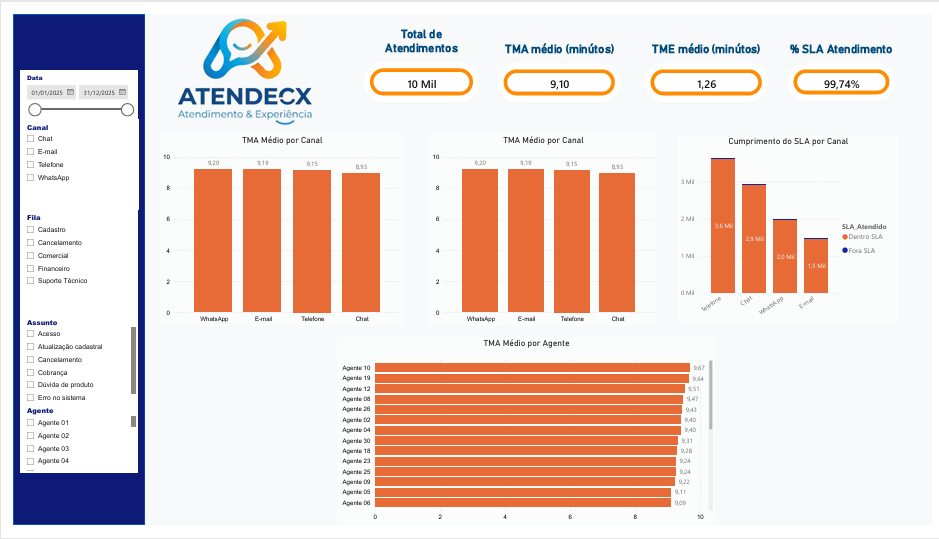

The page's visual inventory and layout, read from the dashboard file:
{"tool":"powerbi","page":{"name":"Peformace operacional","canvas":[1800,1000],"ordinal":2},"visuals":[{"type":"shape","box":[0,0,258,1000],"z":0},{"type":"cardVisual","title":"TME médio (minútos)","fields":{"Data":["ABC_Produtos.TME Médio"]},"box":[1232,54,252,122],"z":1000},{"type":"slicer","fields":{"Values":["Atendimento.Data"]},"box":[14,110,231,95],"z":2000},{"type":"slicer","fields":{"Values":["Atendimento.Canal"]},"box":[14,206,232,178],"z":3000},{"type":"slicer","fields":{"Values":["Atendimento.Agente"]},"box":[14,762,231,137],"z":4000},{"type":"slicer","fields":{"Values":["Atendimento.Assunto"]},"box":[14,588,231,174],"z":5000},{"type":"slicer","fields":{"Values":["Atendimento.Fila"]},"box":[14,384,231,204],"z":6000},{"type":"image","box":[308,0,292,220],"z":7000},{"type":"cardVisual","title":"Total de Atendimentos","fields":{"Data":["Atendimento.Total de atendimentos"]},"box":[682,26,236,150],"z":8000},{"type":"cardVisual","title":"TMA médio (minútos)","fields":{"Data":["ABC_Produtos.TMA Médio"]},"box":[944,54,252,122],"z":9000},{"type":"cardVisual","title":"% SLA Atendimento","fields":{"Data":["Atendimento.% SLA Atendido"]},"box":[1512,54,222,120],"z":10000},{"type":"clusteredColumnChart","fields":{"Y":["Atendimento.TMA Médio"],"Category":["Atendimento.Canal"]},"box":[288,236,478,376],"z":11000},{"type":"clusteredColumnChart","fields":{"Category":["Atendimento.Canal"],"Y":["Atendimento.TMA Médio"]},"box":[816,236,446,376],"z":12000},{"type":"columnChart","title":"Cumprimento do SLA por Canal","fields":{"Category":["Atendimento.Canal"],"Y":["Atendimento.Total de atendimentos"],"Series":["Atendimento.SLA_Atendido"]},"box":[1304,238,430,374],"z":13000},{"type":"clusteredBarChart","fields":{"Category":["Atendimento.Agente"],"Y":["Atendimento.TMA Médio"]},"box":[636,634,740,366],"z":14000}]}

Visuals, with their boxes on the page's 1800x1000 design canvas (x1, y1, x2, y2). These are canvas units, not pixel positions in the 939x539 screenshot, which may show the page scaled, cropped or inside an application window:
shape: (left=0, top=0, right=258, bottom=1000)
"TME médio (minútos)" cardVisual: (left=1232, top=54, right=1484, bottom=176)
slicer - Atendimento.Data: (left=14, top=110, right=245, bottom=205)
slicer - Atendimento.Canal: (left=14, top=206, right=246, bottom=384)
slicer - Atendimento.Agente: (left=14, top=762, right=245, bottom=899)
slicer - Atendimento.Assunto: (left=14, top=588, right=245, bottom=762)
slicer - Atendimento.Fila: (left=14, top=384, right=245, bottom=588)
image: (left=308, top=0, right=600, bottom=220)
"Total de Atendimentos" cardVisual: (left=682, top=26, right=918, bottom=176)
"TMA médio (minútos)" cardVisual: (left=944, top=54, right=1196, bottom=176)
"% SLA Atendimento" cardVisual: (left=1512, top=54, right=1734, bottom=174)
clusteredColumnChart - Atendimento.TMA Médio x Atendimento.Canal: (left=288, top=236, right=766, bottom=612)
clusteredColumnChart - Atendimento.Canal x Atendimento.TMA Médio: (left=816, top=236, right=1262, bottom=612)
"Cumprimento do SLA por Canal" columnChart: (left=1304, top=238, right=1734, bottom=612)
clusteredBarChart - Atendimento.Agente x Atendimento.TMA Médio: (left=636, top=634, right=1376, bottom=1000)
